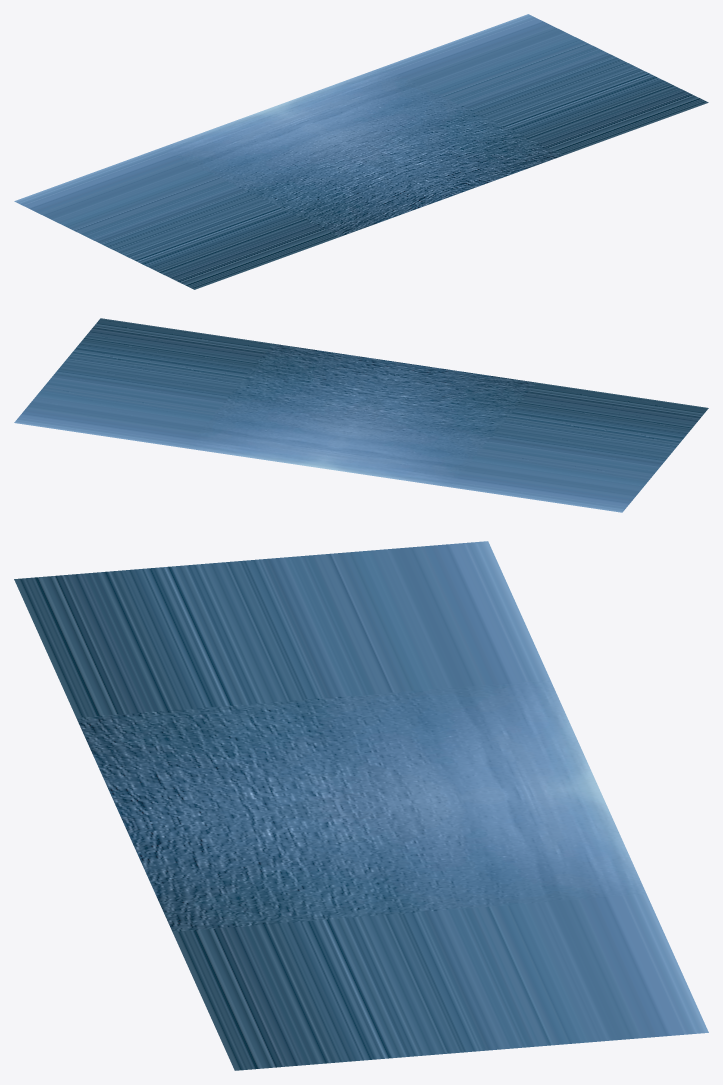
The model's file is lumina_dixing_zhanyi01_shuimian.FBX.
3 renders of one model, top to bottom at view 1: azimuth 30°, elevation 25°; view 2: azimuth 150°, elevation 25°; view 3: azimuth 270°, elevation 25°, orthographic. The views are drawn at different scales.
Visible parts, largest first — view 1: grid; view 2: grid; view 3: grid.
Part boxes in pixels (x1,y1,x2,y2): grid: (14, 14, 708, 289); grid: (14, 318, 708, 512); grid: (14, 541, 708, 1070).
Bounding box in the file's own units: 57.08 × 0 × 31.65.
